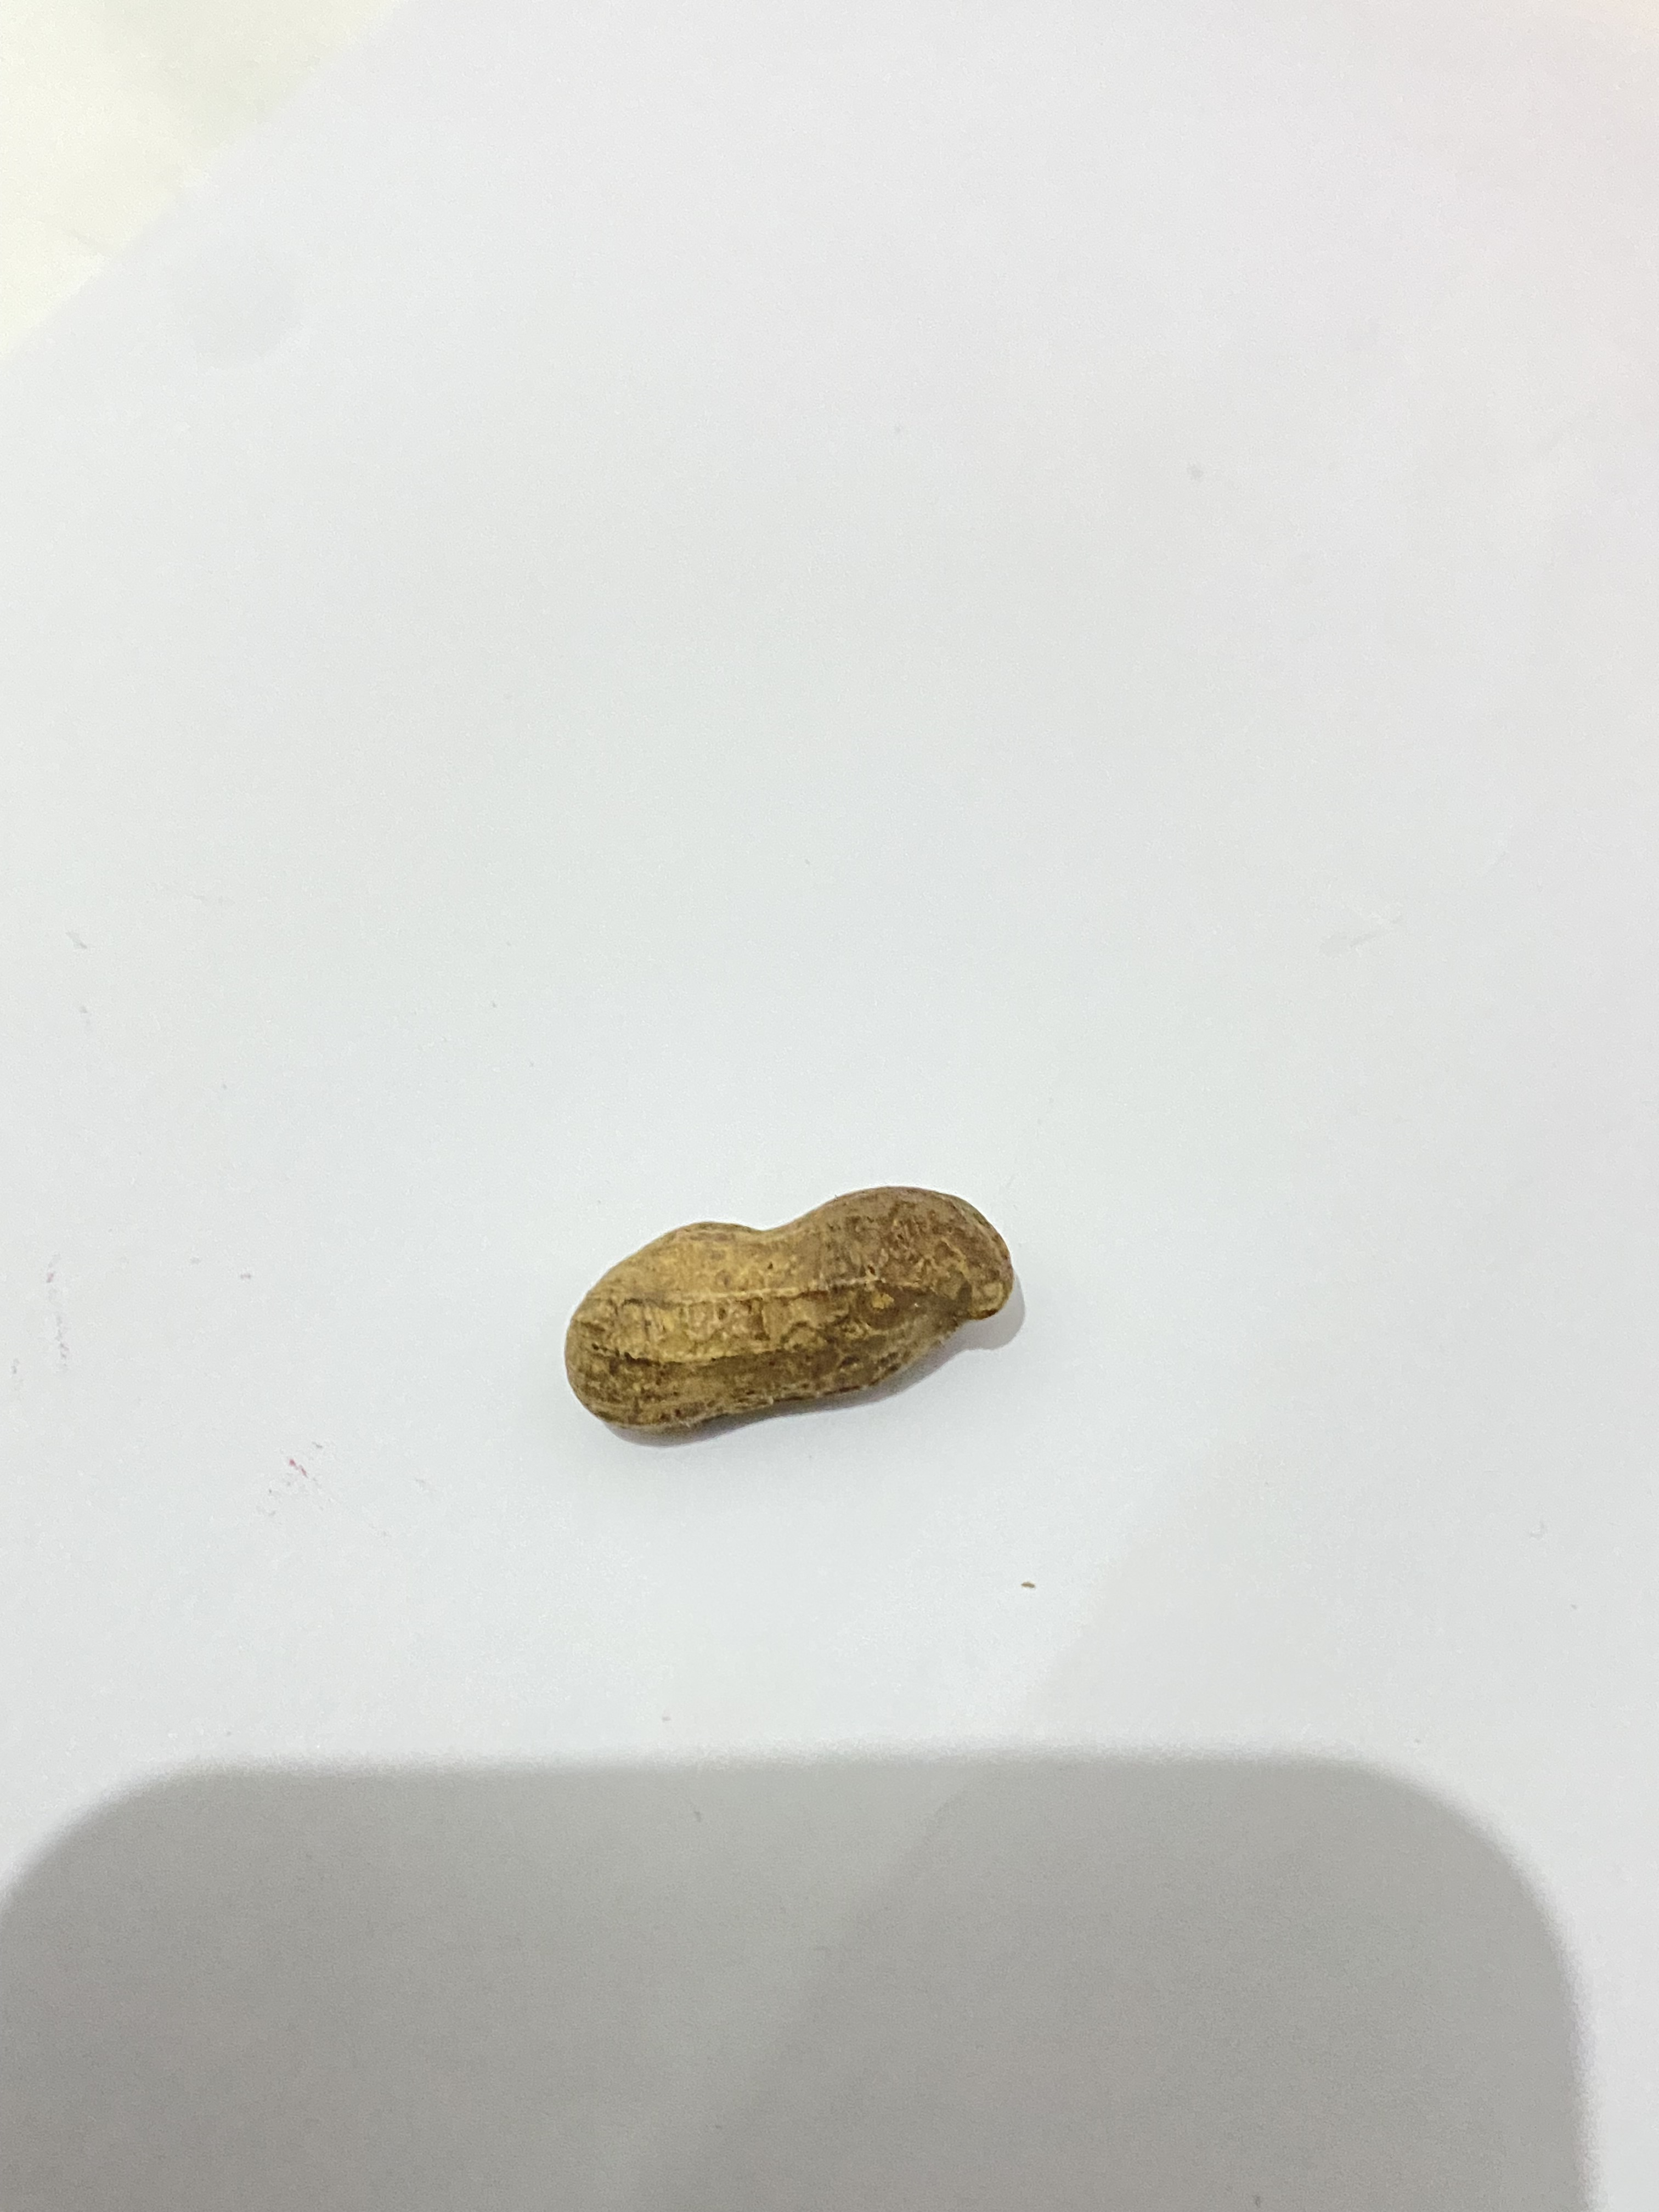kacang2: (547, 1134, 1058, 1503)
